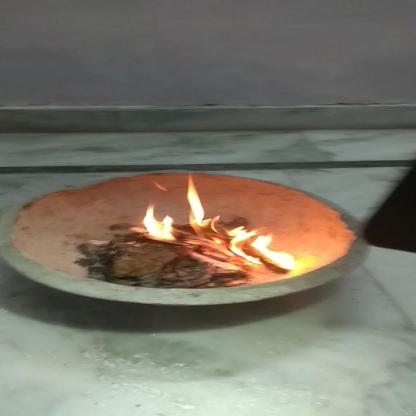fire: (129, 179, 302, 270)
